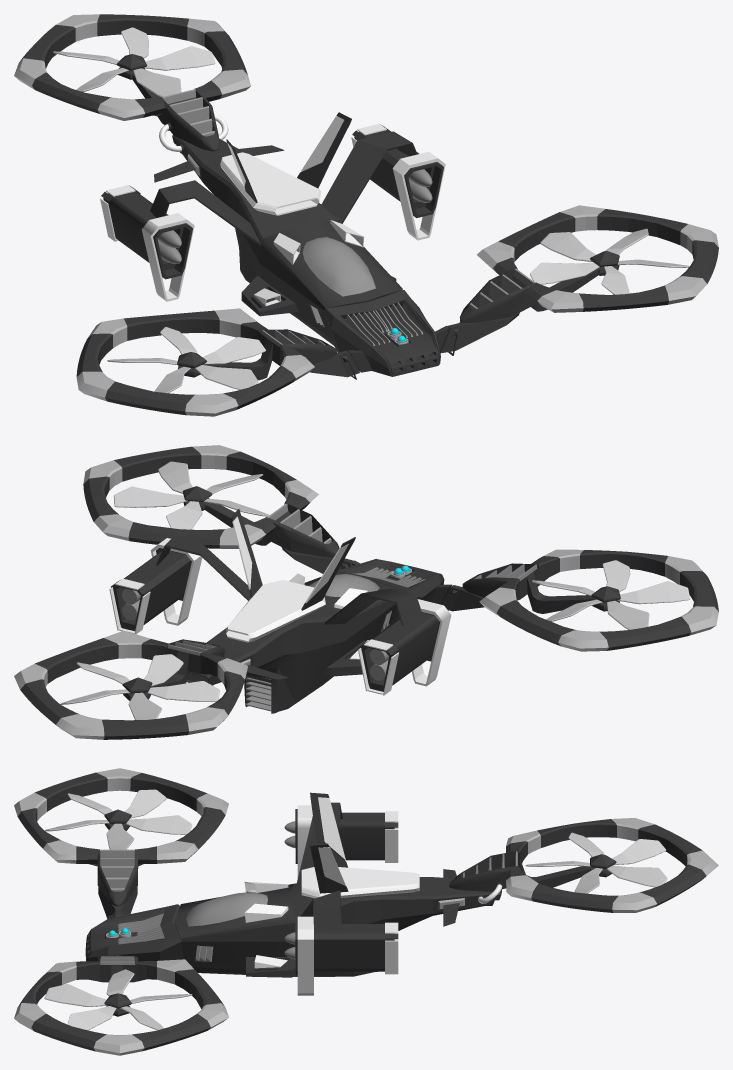
Rendered from NightFury.fbx.
The picture shows the model from 3 angles, top to bottom: view 1: azimuth 30°, elevation 25°; view 2: azimuth 150°, elevation 25°; view 3: azimuth 270°, elevation 25°; orthographic projection. The views are drawn at different scales.
Parts seen in each view (by area): view 1: Night_Fury, C2, C1, C3; view 2: Night_Fury, C2, C3, C1; view 3: Night_Fury, C3, C1, C2.
Boxes of the visible parts, left/top/right/bottom form: Night_Fury: left=14, top=14, right=718, bottom=416; C2: left=530, top=228, right=689, bottom=294; C1: left=53, top=27, right=215, bottom=97; C3: left=107, top=327, right=265, bottom=393; Night_Fury: left=14, top=445, right=718, bottom=739; C2: left=113, top=461, right=269, bottom=529; C3: left=532, top=560, right=690, bottom=629; C1: left=60, top=654, right=219, bottom=719; Night_Fury: left=14, top=768, right=718, bottom=1055; C3: left=44, top=789, right=192, bottom=849; C1: left=525, top=832, right=667, bottom=893; C2: left=44, top=969, right=192, bottom=1030.
Bounding box in the file's own units: 1029 × 257 × 1085.
1 material, 1 textured.
